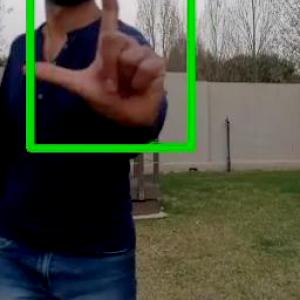land_hand: (19, 0, 170, 130)
